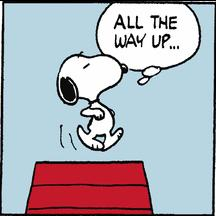snoopy: (55, 50, 128, 150)
